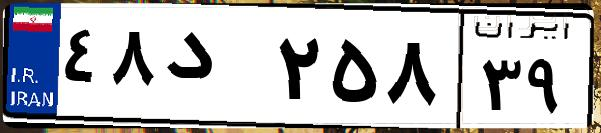2: (270, 28, 330, 110)
3: (475, 38, 525, 113)
4: (57, 26, 110, 100)
5: (330, 28, 385, 110)
8: (385, 28, 445, 110), (110, 28, 158, 98)
9: (525, 38, 570, 115)
د: (158, 20, 270, 120)
